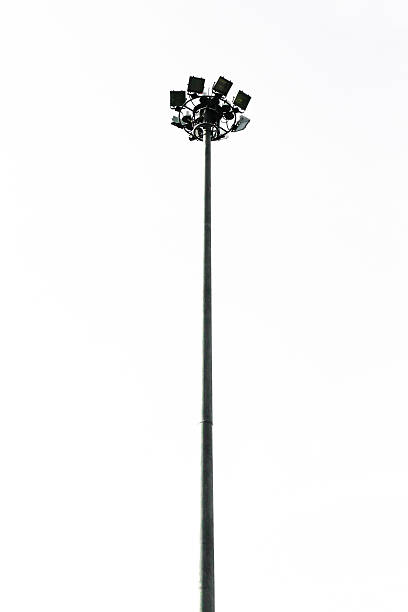light_pole: (195, 139, 218, 612)
